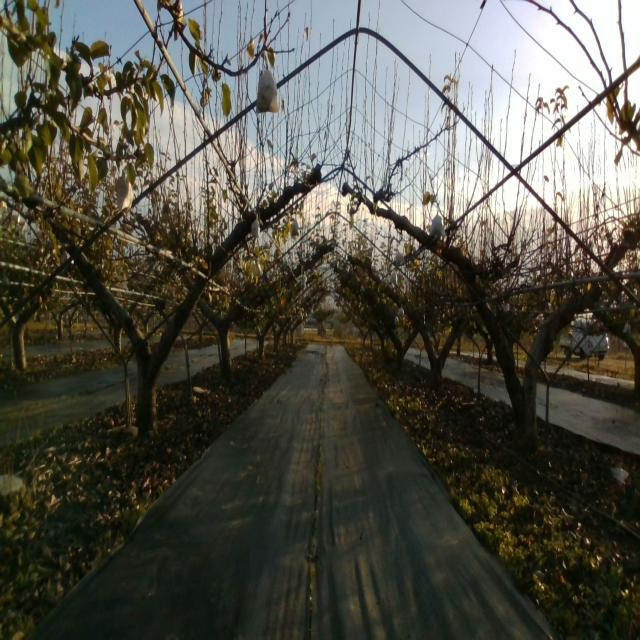pearbags: (255, 67, 279, 113), (115, 177, 134, 220), (428, 212, 446, 238)
